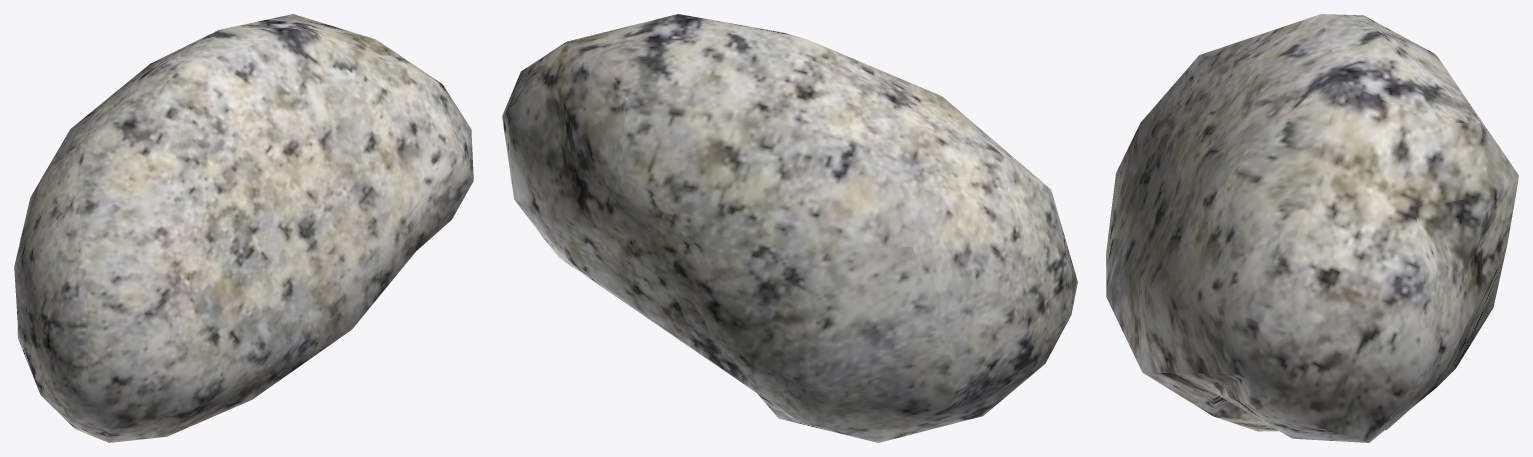
3 views of the same model, side by side, from view 1: azimuth 30°, elevation 25°; view 2: azimuth 150°, elevation 25°; view 3: azimuth 270°, elevation 25° (orthographic). The views are drawn at different scales.
Parts seen in each view (by area): view 1: rock017_lod4; view 2: rock017_lod4; view 3: rock017_lod4.
Part boxes in pixels (x1,y1,x2,y2): rock017_lod4: (14, 14, 473, 442); rock017_lod4: (502, 14, 1077, 442); rock017_lod4: (1106, 14, 1518, 442).
Size of the model in its own units: 1 by 0.7212 by 0.6123.
1 material, 1 textured.
